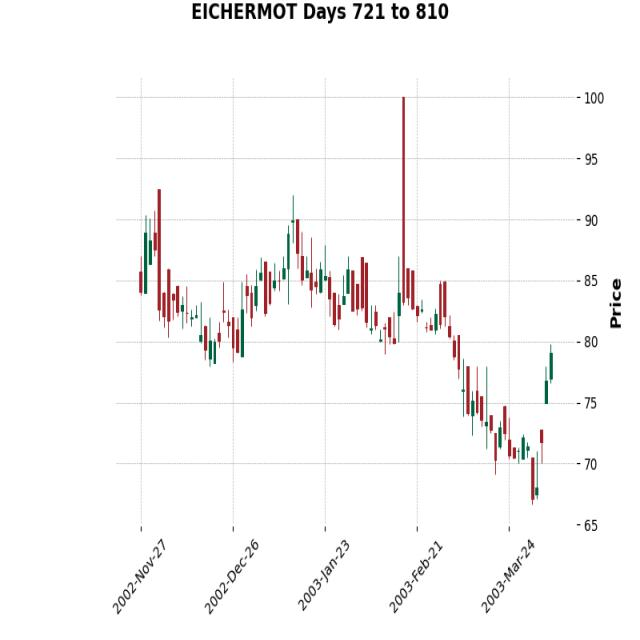Descending Triangle: (405, 278, 539, 520)
